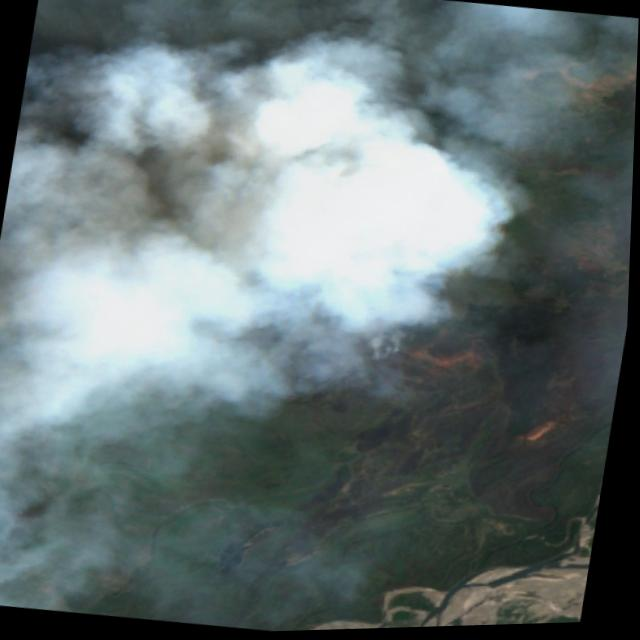fire: (182, 137, 466, 404)
